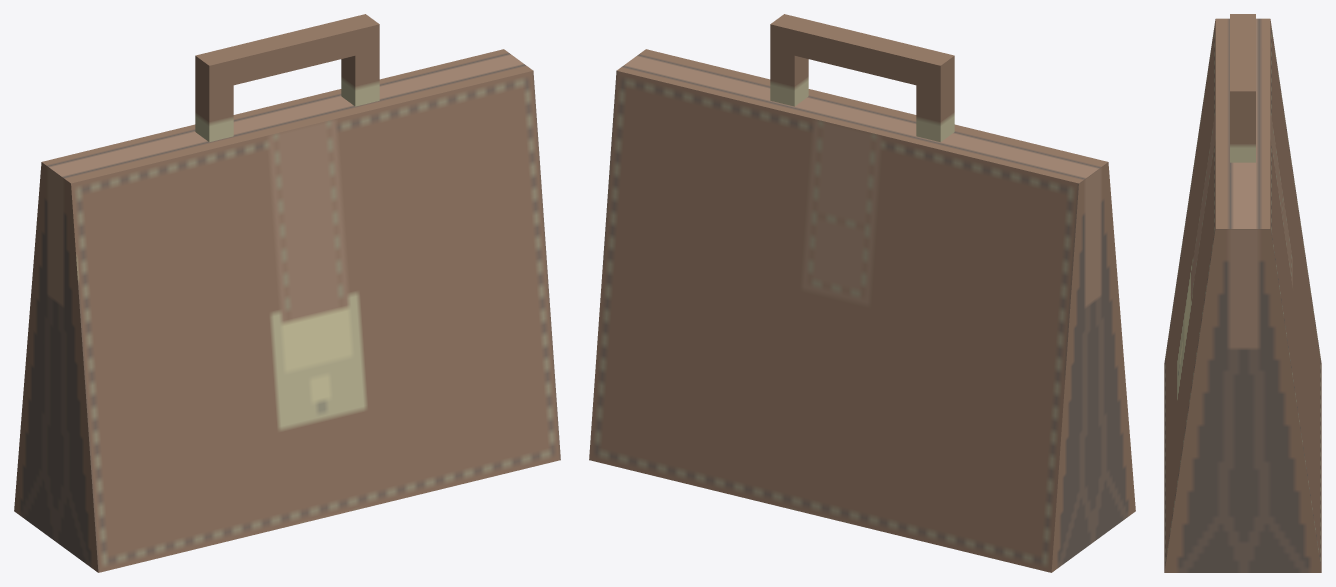
3 renders of one model, left to right at view 1: azimuth 30°, elevation 25°; view 2: azimuth 150°, elevation 25°; view 3: azimuth 270°, elevation 25°, orthographic. The views are drawn at different scales.
Parts seen in each view (by area): view 1: part_0; view 2: part_0; view 3: part_0.
Part boxes in pixels (x1,y1,x2,y2): part_0: [14, 14, 560, 572]; part_0: [589, 14, 1135, 572]; part_0: [1164, 14, 1321, 572].
Size of the model in its own units: 38 by 35 by 12.
Materials: 1 (1 with a texture image).
